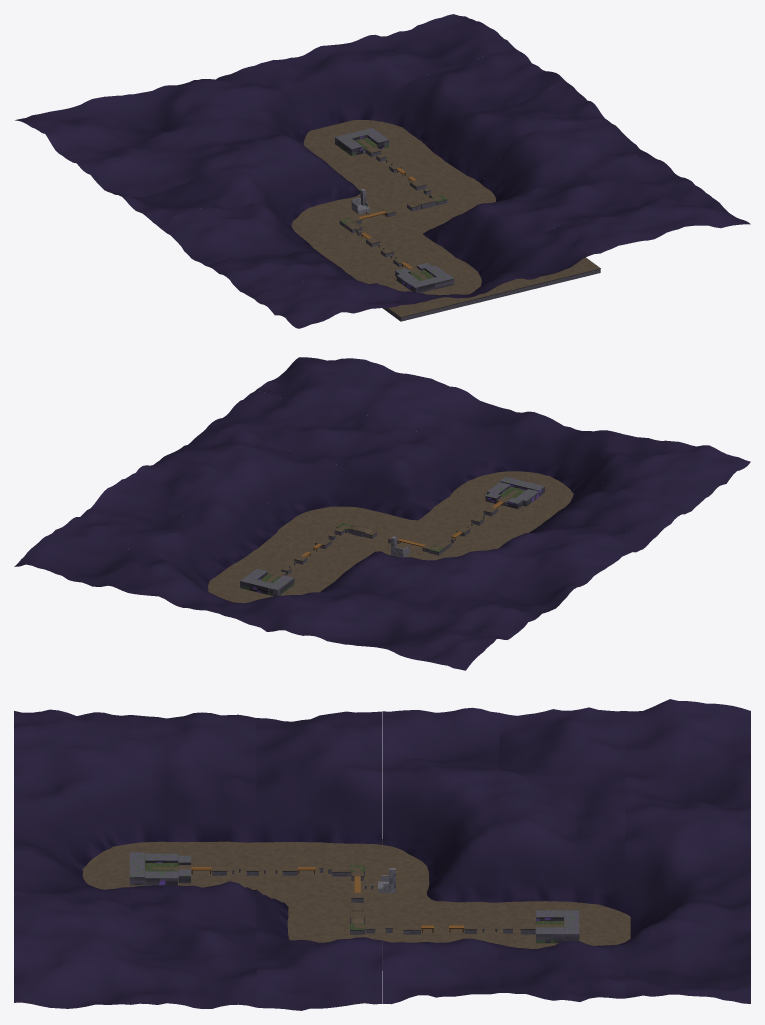
Rendered from misty_marsh_terrain.glb.
3 renders of one model, top to bottom at view 1: azimuth 30°, elevation 25°; view 2: azimuth 150°, elevation 25°; view 3: azimuth 270°, elevation 25°, orthographic. The views are drawn at different scales.
Visible parts, largest first — view 1: backdrop_5, terrain_J, backdrop_4, backdrop_3, backdrop_1, backdrop_0, backdrop_2, terrain_A, terrain_E; view 2: backdrop_0, backdrop_1, backdrop_5, terrain_J, backdrop_4, backdrop_3, backdrop_2, terrain_A, terrain_B, terrain_E; view 3: backdrop_5, backdrop_0, backdrop_4, backdrop_1, backdrop_3, terrain_J, backdrop_2, terrain_A, terrain_B, terrain_E, terrain_G.
Part boxes in pixels (x1,y1,x2,y2): backdrop_5: (15, 14, 514, 155); terrain_J: (291, 120, 600, 321); backdrop_4: (63, 48, 562, 196); backdrop_3: (112, 79, 607, 228); backdrop_1: (205, 156, 705, 298); backdrop_0: (254, 192, 750, 328); backdrop_2: (157, 119, 656, 265); terrain_A: (396, 265, 454, 292); terrain_E: (339, 188, 386, 227); backdrop_0: (254, 357, 750, 499); backdrop_1: (205, 391, 705, 535); backdrop_5: (14, 527, 513, 670); terrain_J: (208, 471, 573, 603); backdrop_4: (63, 486, 562, 634); backdrop_3: (111, 460, 607, 604); backdrop_2: (157, 427, 656, 566); terrain_A: (487, 477, 544, 506); terrain_B: (471, 492, 522, 525); terrain_E: (391, 536, 444, 557); backdrop_5: (625, 699, 750, 1003); backdrop_0: (14, 709, 130, 1008); backdrop_4: (499, 707, 625, 1001); backdrop_1: (131, 712, 256, 1008); backdrop_3: (382, 707, 499, 1004); terrain_J: (82, 839, 630, 970); backdrop_2: (256, 711, 382, 1010); terrain_A: (129, 852, 178, 885); terrain_B: (178, 855, 259, 883); terrain_E: (350, 865, 395, 892); terrain_G: (350, 923, 421, 934).
Size of the model in its own units: 525 by 65.54 by 574.
